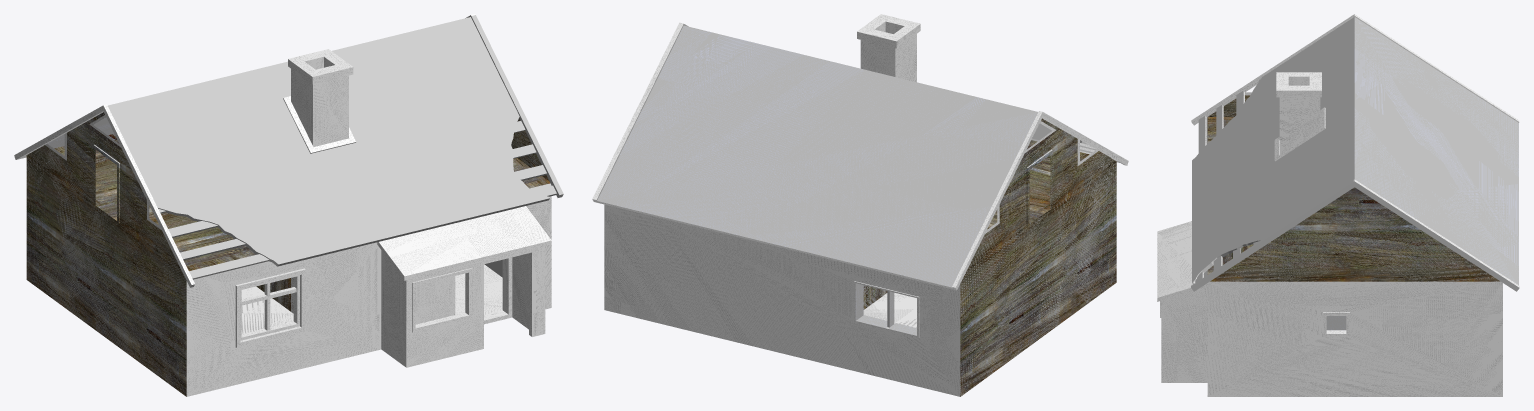
3 renders of one model, left to right at view 1: azimuth 30°, elevation 25°; view 2: azimuth 150°, elevation 25°; view 3: azimuth 270°, elevation 25°, orthographic. The views are drawn at different scales.
Parts seen in each view (by area): view 1: Material2.003, Material2.001, Material2.002, Material2.004, Material3.001, Material2, Material3.002, Material3.003, Material3; view 2: Material2.003, Material2.001, Material2.002, Material3.004, Material3.001, Material2, Material2.004, Material3.003; view 3: Material2.003, Material2.001, Material2.002, Material2.004, Material3.001, Material3.004, Material2, Material3.005, Material3.003, Material3.002.
Part boxes in pixels (x1=…): Material2.003: x1=16, y1=15, x2=563, y2=286; Material2.001: x1=14, y1=14, x2=563, y2=396; Material2.002: x1=26, y1=112, x2=549, y2=396; Material2.004: x1=27, y1=16, x2=563, y2=347; Material3.001: x1=26, y1=157, x2=551, y2=395; Material2: x1=103, y1=14, x2=502, y2=333; Material3.002: x1=158, y1=121, x2=556, y2=278; Material3.003: x1=288, y1=50, x2=352, y2=146; Material3: x1=241, y1=260, x2=507, y2=333; Material2.003: x1=594, y1=23, x2=1127, y2=289; Material2.001: x1=592, y1=23, x2=1128, y2=396; Material2.002: x1=863, y1=118, x2=1116, y2=396; Material3.004: x1=598, y1=26, x2=1037, y2=334; Material3.001: x1=604, y1=163, x2=1116, y2=395; Material2: x1=854, y1=14, x2=920, y2=327; Material2.004: x1=601, y1=24, x2=1112, y2=337; Material3.003: x1=857, y1=15, x2=920, y2=81; Material2.003: x1=1157, y1=15, x2=1519, y2=301; Material2.001: x1=1157, y1=14, x2=1519, y2=396; Material2.002: x1=1207, y1=95, x2=1499, y2=281; Material2.004: x1=1160, y1=19, x2=1516, y2=337; Material3.001: x1=1207, y1=281, x2=1502, y2=396; Material3.004: x1=1326, y1=18, x2=1518, y2=330; Material2: x1=1276, y1=14, x2=1354, y2=181; Material3.005: x1=1161, y1=287, x2=1207, y2=382; Material3.003: x1=1276, y1=72, x2=1346, y2=329; Material3.002: x1=1197, y1=80, x2=1259, y2=281.
Size of the model in its own units: 462 by 300 by 422.
